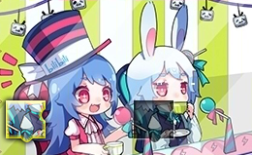gap: (134, 100, 173, 143)
